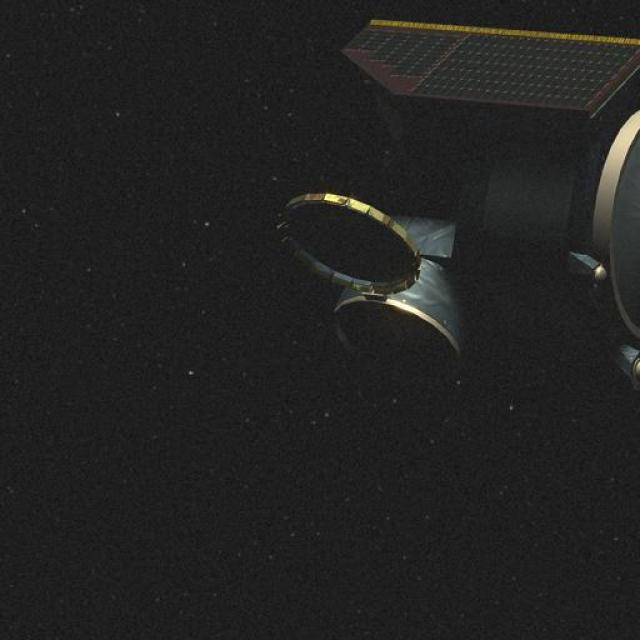cheops: (271, 18, 640, 388)
